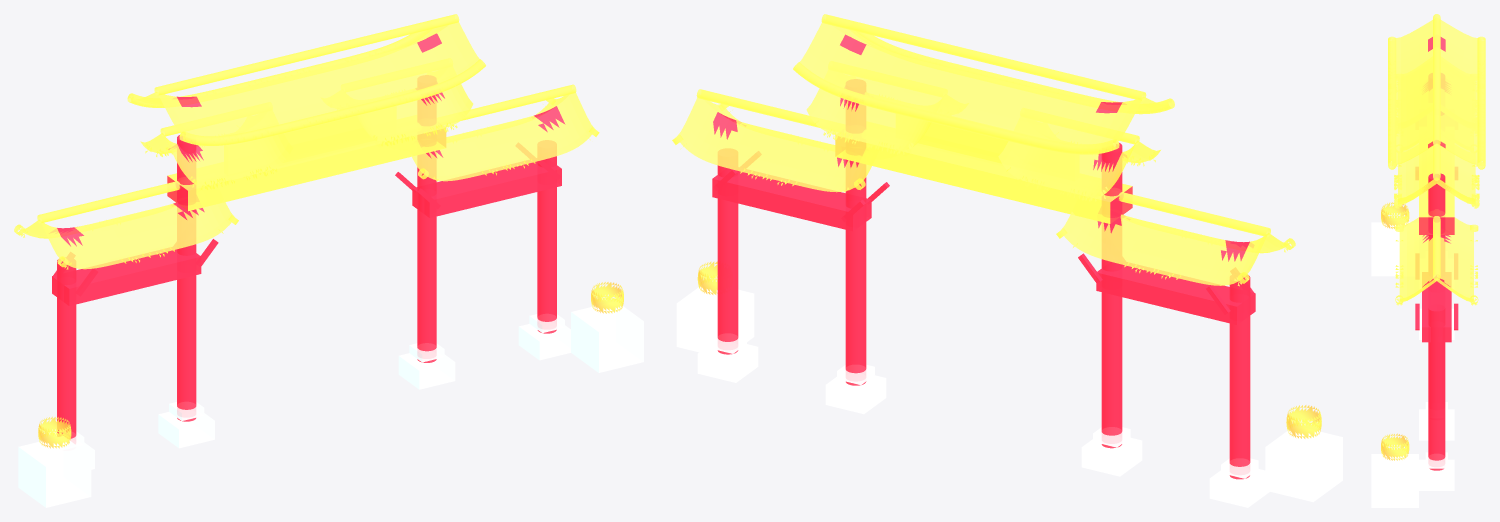
The model's file is chinatown-friendship-gate.glb.
The picture shows the model from 3 angles, left to right: view 1: azimuth 30°, elevation 25°; view 2: azimuth 150°, elevation 25°; view 3: azimuth 270°, elevation 25°; orthographic projection. The views are drawn at different scales.
Visible parts, largest first — view 1: Chinatown Friendship Gate.003, Chinatown Friendship Gate.001, Chinatown Friendship Gate.002, Chinatown Friendship Gate; view 2: Chinatown Friendship Gate.003, Chinatown Friendship Gate.001, Chinatown Friendship Gate.002, Chinatown Friendship Gate; view 3: Chinatown Friendship Gate.003, Chinatown Friendship Gate.002, Chinatown Friendship Gate.001, Chinatown Friendship Gate.
Boxes of the visible parts, box(x1,y1,x2,y2) form: Chinatown Friendship Gate.003: box(14, 14, 599, 269); Chinatown Friendship Gate.001: box(52, 33, 565, 441); Chinatown Friendship Gate.002: box(18, 302, 643, 507); Chinatown Friendship Gate: box(38, 282, 623, 448); Chinatown Friendship Gate.003: box(672, 14, 1295, 286); Chinatown Friendship Gate.001: box(712, 34, 1255, 479); Chinatown Friendship Gate.002: box(676, 283, 1342, 507); Chinatown Friendship Gate: box(697, 261, 1321, 438); Chinatown Friendship Gate.003: box(1388, 14, 1485, 305); Chinatown Friendship Gate.002: box(1371, 222, 1454, 507); Chinatown Friendship Gate.001: box(1415, 37, 1458, 470); Chinatown Friendship Gate: box(1381, 202, 1409, 460).
Size of the model in its own units: 19.9 by 11.32 by 3.84.
